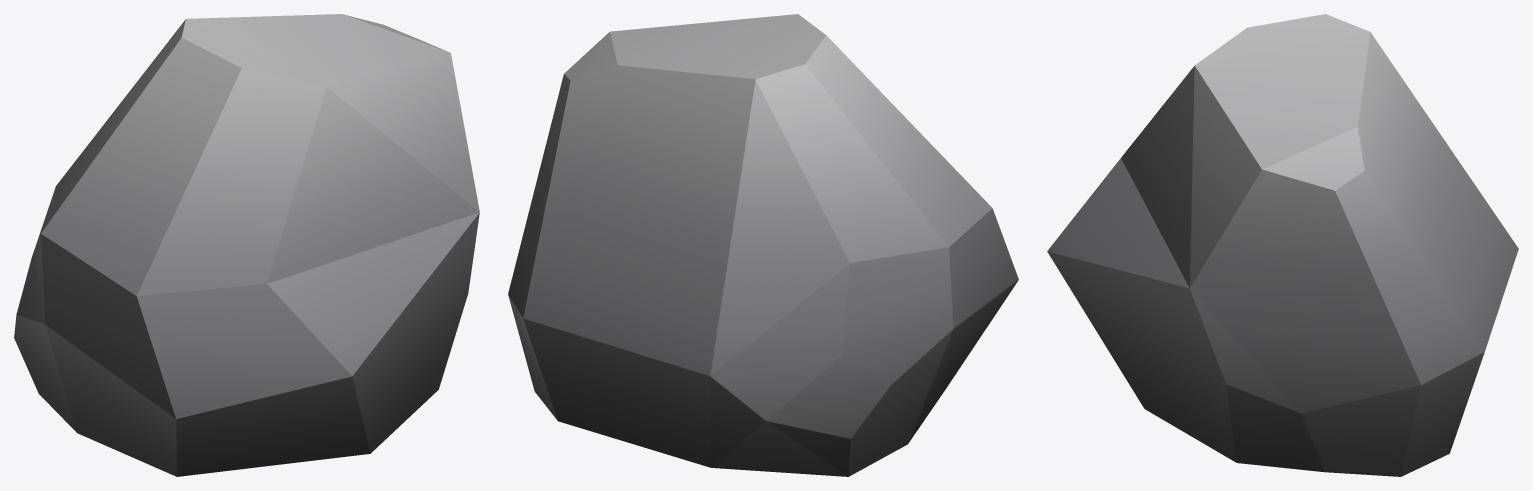
File: RockLrg-02.FBX
3 renders of one model, left to right at view 1: azimuth 30°, elevation 25°; view 2: azimuth 150°, elevation 25°; view 3: azimuth 270°, elevation 25°, orthographic. The views are drawn at different scales.
Visible parts, largest first — view 1: RockLrg-02; view 2: RockLrg-02; view 3: RockLrg-02.
Boxes of the visible parts, x1,y1,x2,y2 form: RockLrg-02: [14, 14, 479, 476]; RockLrg-02: [508, 14, 1018, 476]; RockLrg-02: [1047, 14, 1518, 476].
Bounding box in the file's own units: 496 × 435 × 529.
1 material, 1 textured.
